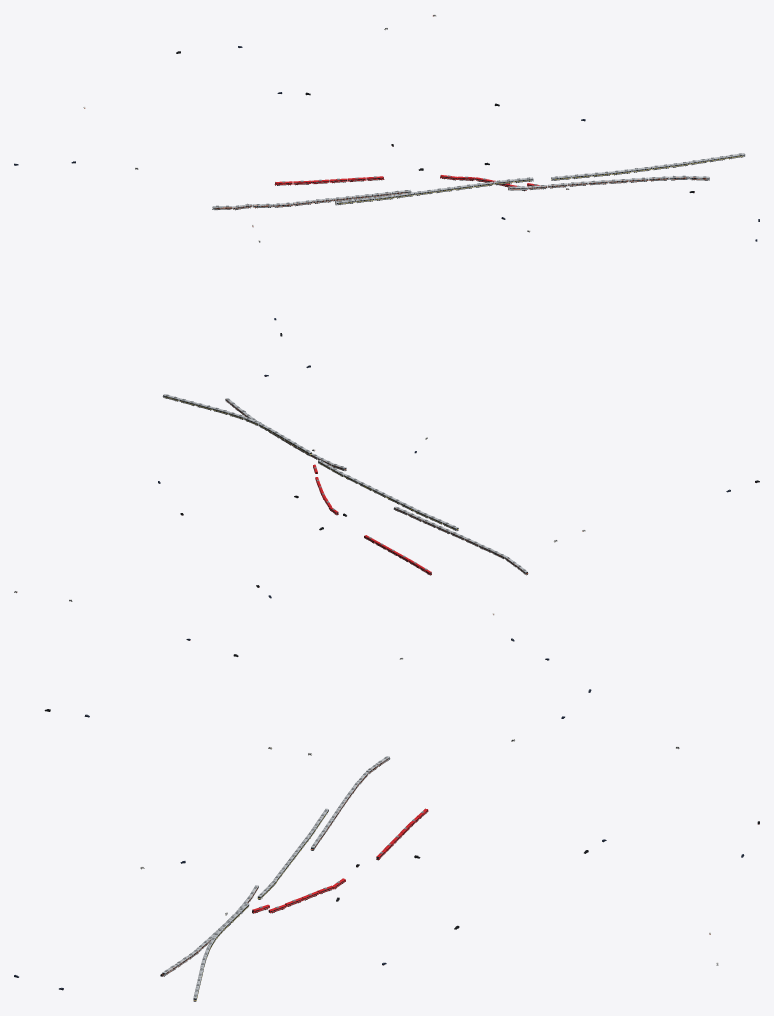
The model's file is vehicles.glb.
3 views of the same model, one above another, from view 1: azimuth 30°, elevation 25°; view 2: azimuth 150°, elevation 25°; view 3: azimuth 270°, elevation 25° (orthographic). The views are drawn at different scales.
Size of the model in its own units: 651 by 23.34 by 660.
